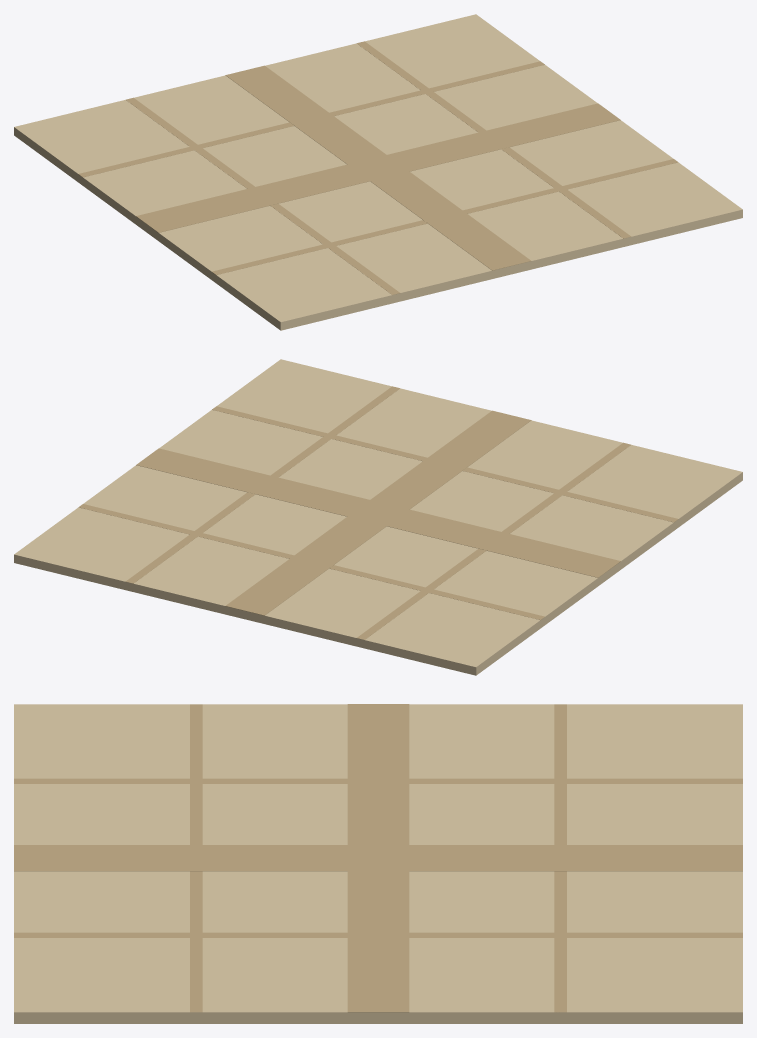
The model's file is paving_tile.glb.
3 views of the same model, one above another, from view 1: azimuth 30°, elevation 25°; view 2: azimuth 150°, elevation 25°; view 3: azimuth 270°, elevation 25° (orthographic). The views are drawn at different scales.
Parts seen in each view (by area): view 1: SM_ENV_paving_tile; view 2: SM_ENV_paving_tile; view 3: SM_ENV_paving_tile.
Part boxes in pixels (left/top/right/bottom): SM_ENV_paving_tile: left=14, top=14, right=742, bottom=330; SM_ENV_paving_tile: left=14, top=359, right=742, bottom=675; SM_ENV_paving_tile: left=14, top=704, right=742, bottom=1023.
Bounding box in the file's own units: 8 × 0.144 × 8.
